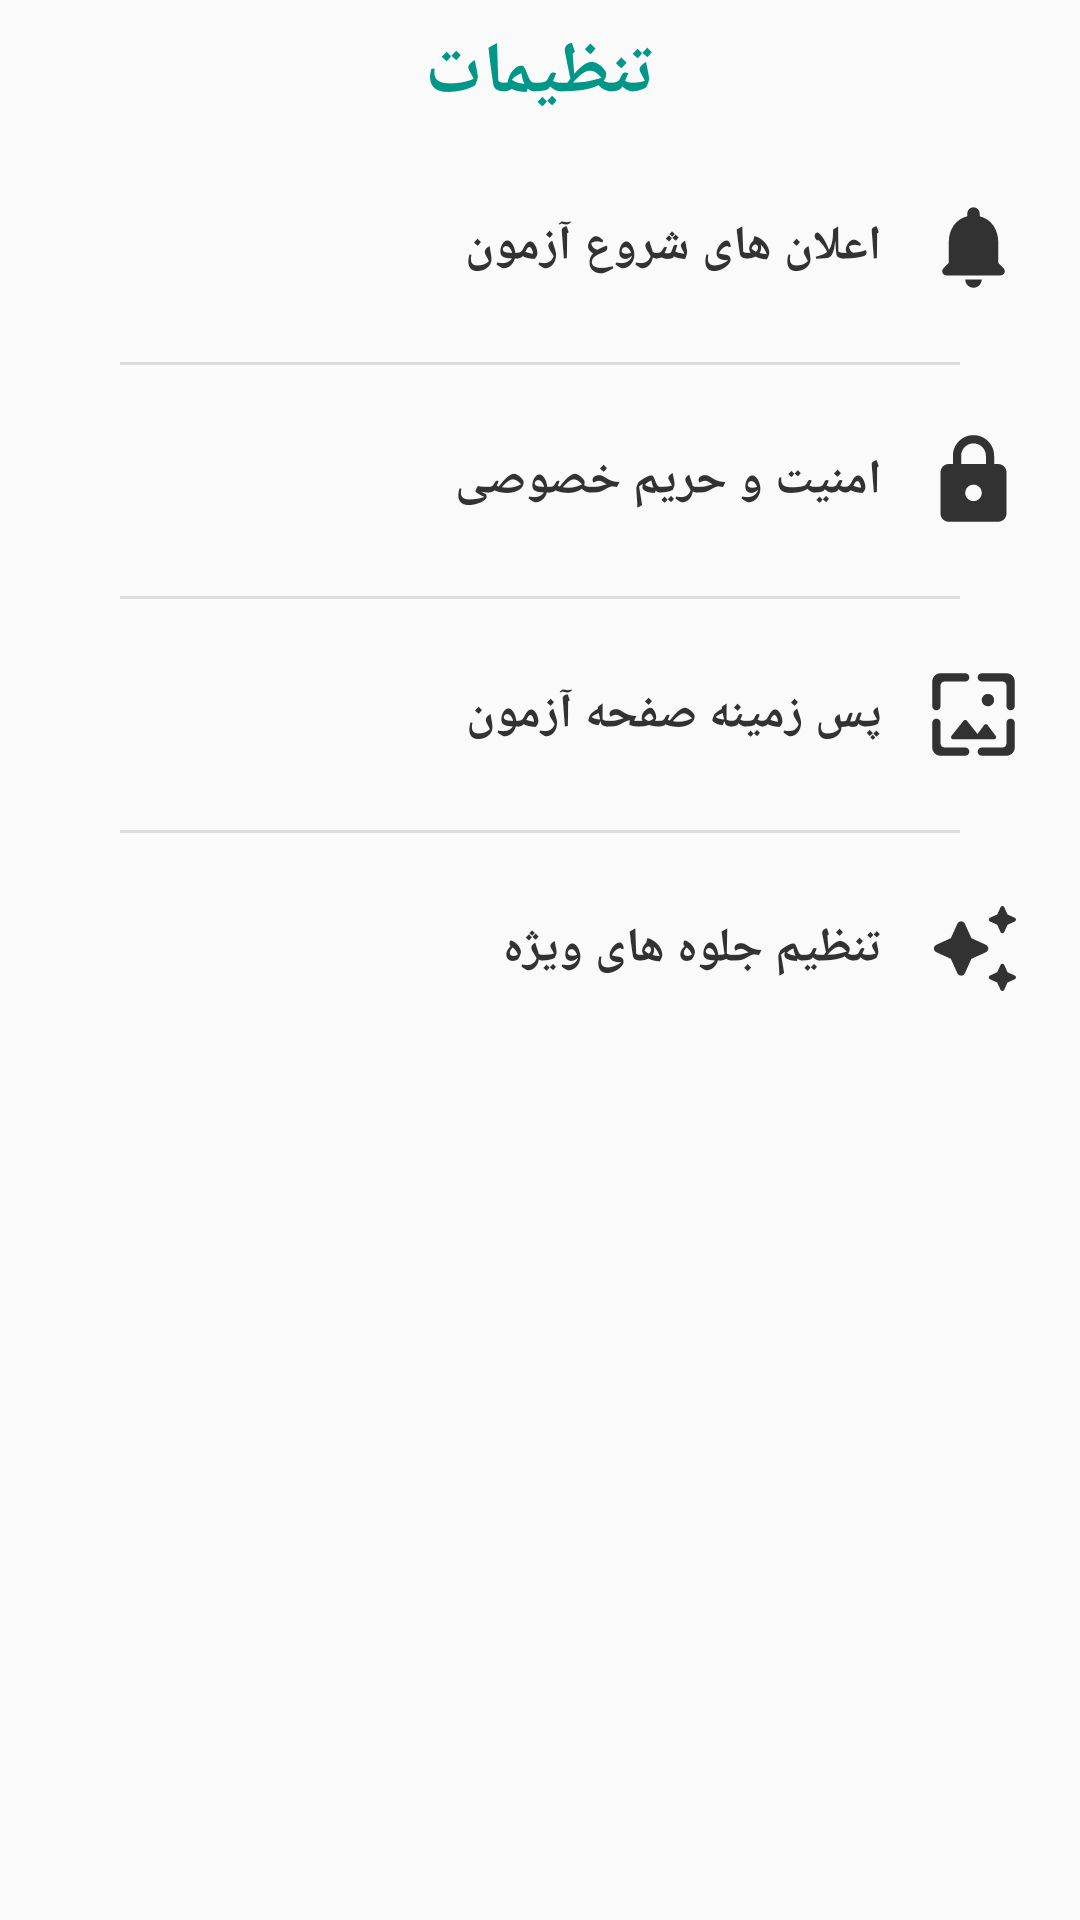

Icons on this 1080 × 1920 Android screen, each with its box as (x1, y1, x2, y2):
notifications: (942, 207, 1005, 288)
privacy and exam security: (940, 435, 1007, 522)
visual effects: (934, 906, 1016, 991)
